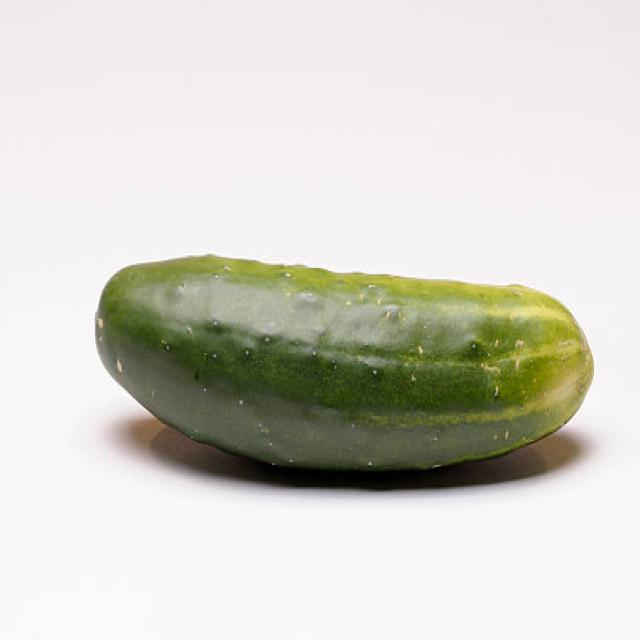cucumber: (92, 253, 594, 478)
